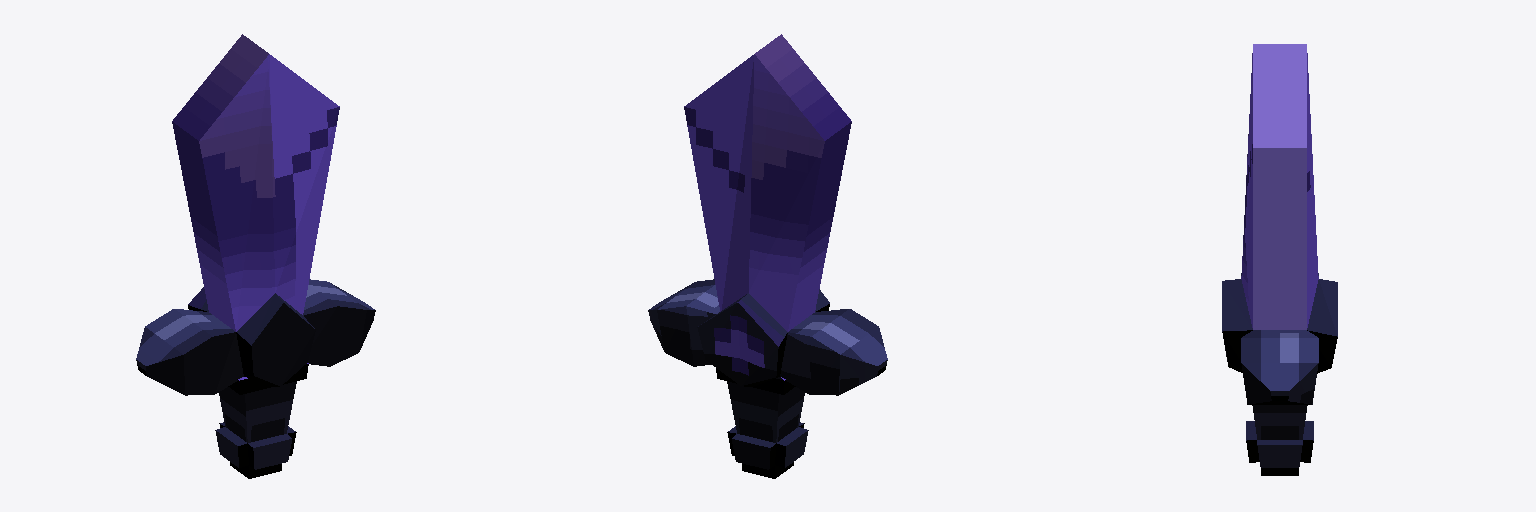
3 renders of one model, left to right at view 1: azimuth 30°, elevation 25°; view 2: azimuth 150°, elevation 25°; view 3: azimuth 270°, elevation 25°, orthographic.
Parts seen in each view (by area): view 1: cuboid; view 2: cuboid; view 3: cuboid.
Boxes of the visible parts, x1,y1,x2,y2 form: cuboid: [136, 34, 375, 478]; cuboid: [648, 34, 887, 478]; cuboid: [1222, 44, 1337, 475].
Bounding box in the file's own units: 0.4293 × 0.7567 × 0.1872.
Materials: 1 (1 with a texture image).